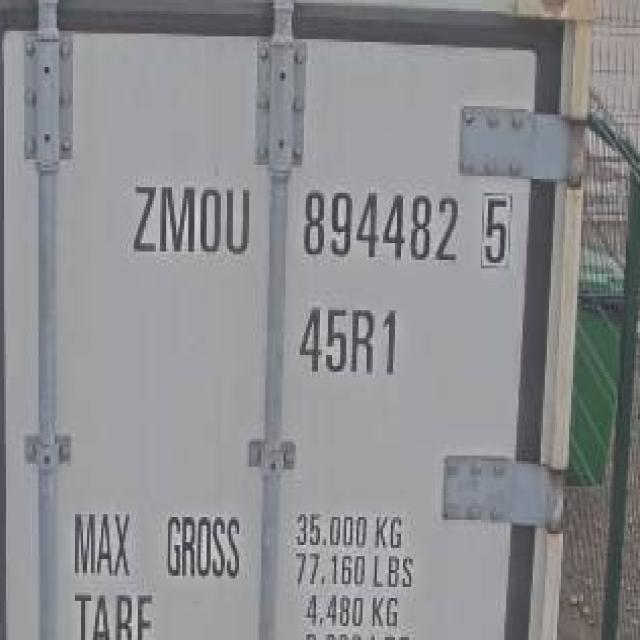dv: (472, 187, 516, 270)
owner: (118, 174, 255, 260)
serial: (296, 182, 461, 266)
size: (289, 294, 405, 383)
